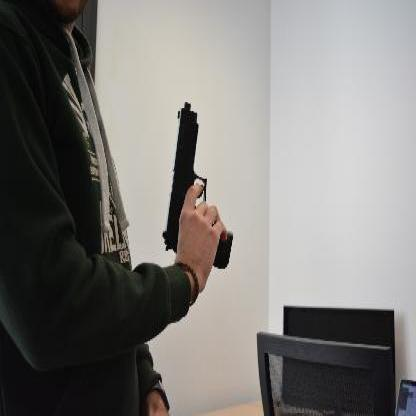pistol: (161, 100, 233, 268)
